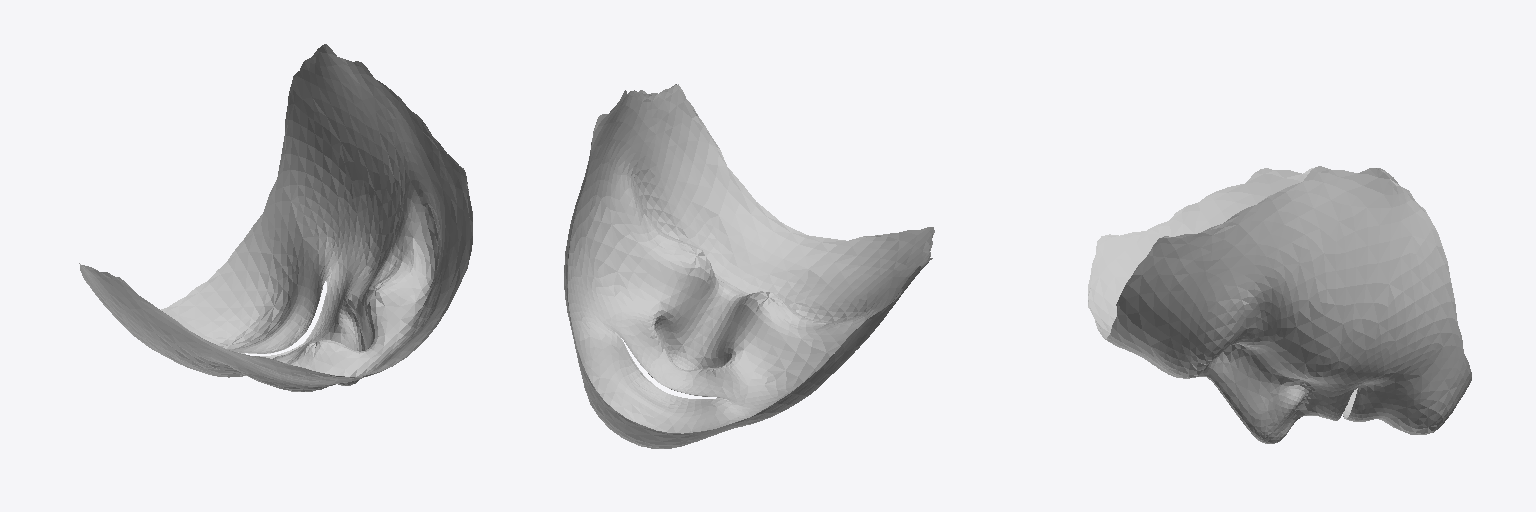
Rendered from face_gab_sfm39.obj.
The picture shows the model from 3 angles: view 1: azimuth 30°, elevation 25°; view 2: azimuth 150°, elevation 25°; view 3: azimuth 270°, elevation 25°; orthographic projection.
Bounding box in the file's own units: 164 × 153 × 178.